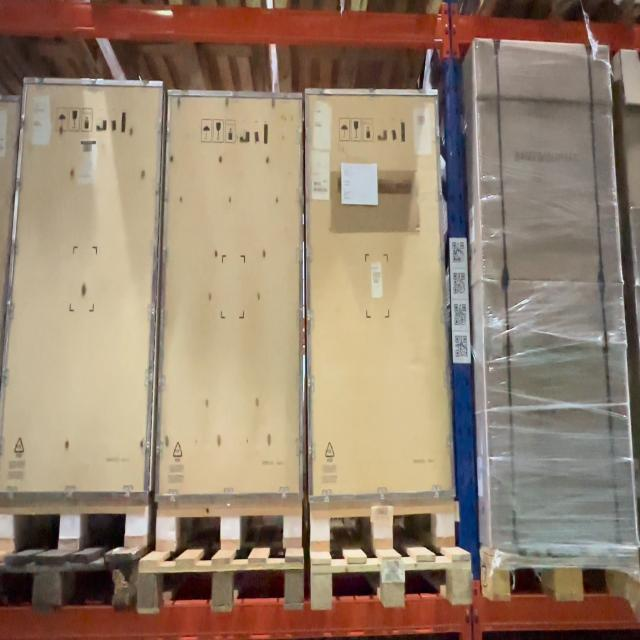box: (157, 91, 303, 499), (308, 90, 452, 499), (482, 281, 639, 552), (475, 39, 625, 283)
